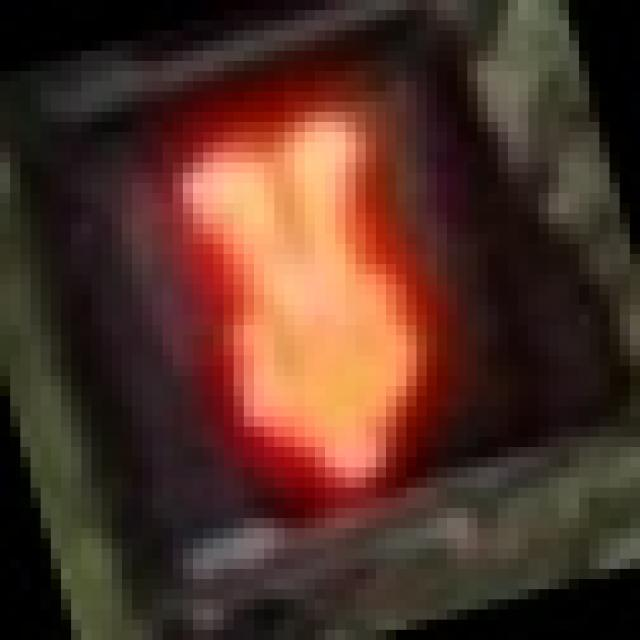red-crossing: (101, 51, 518, 548)
